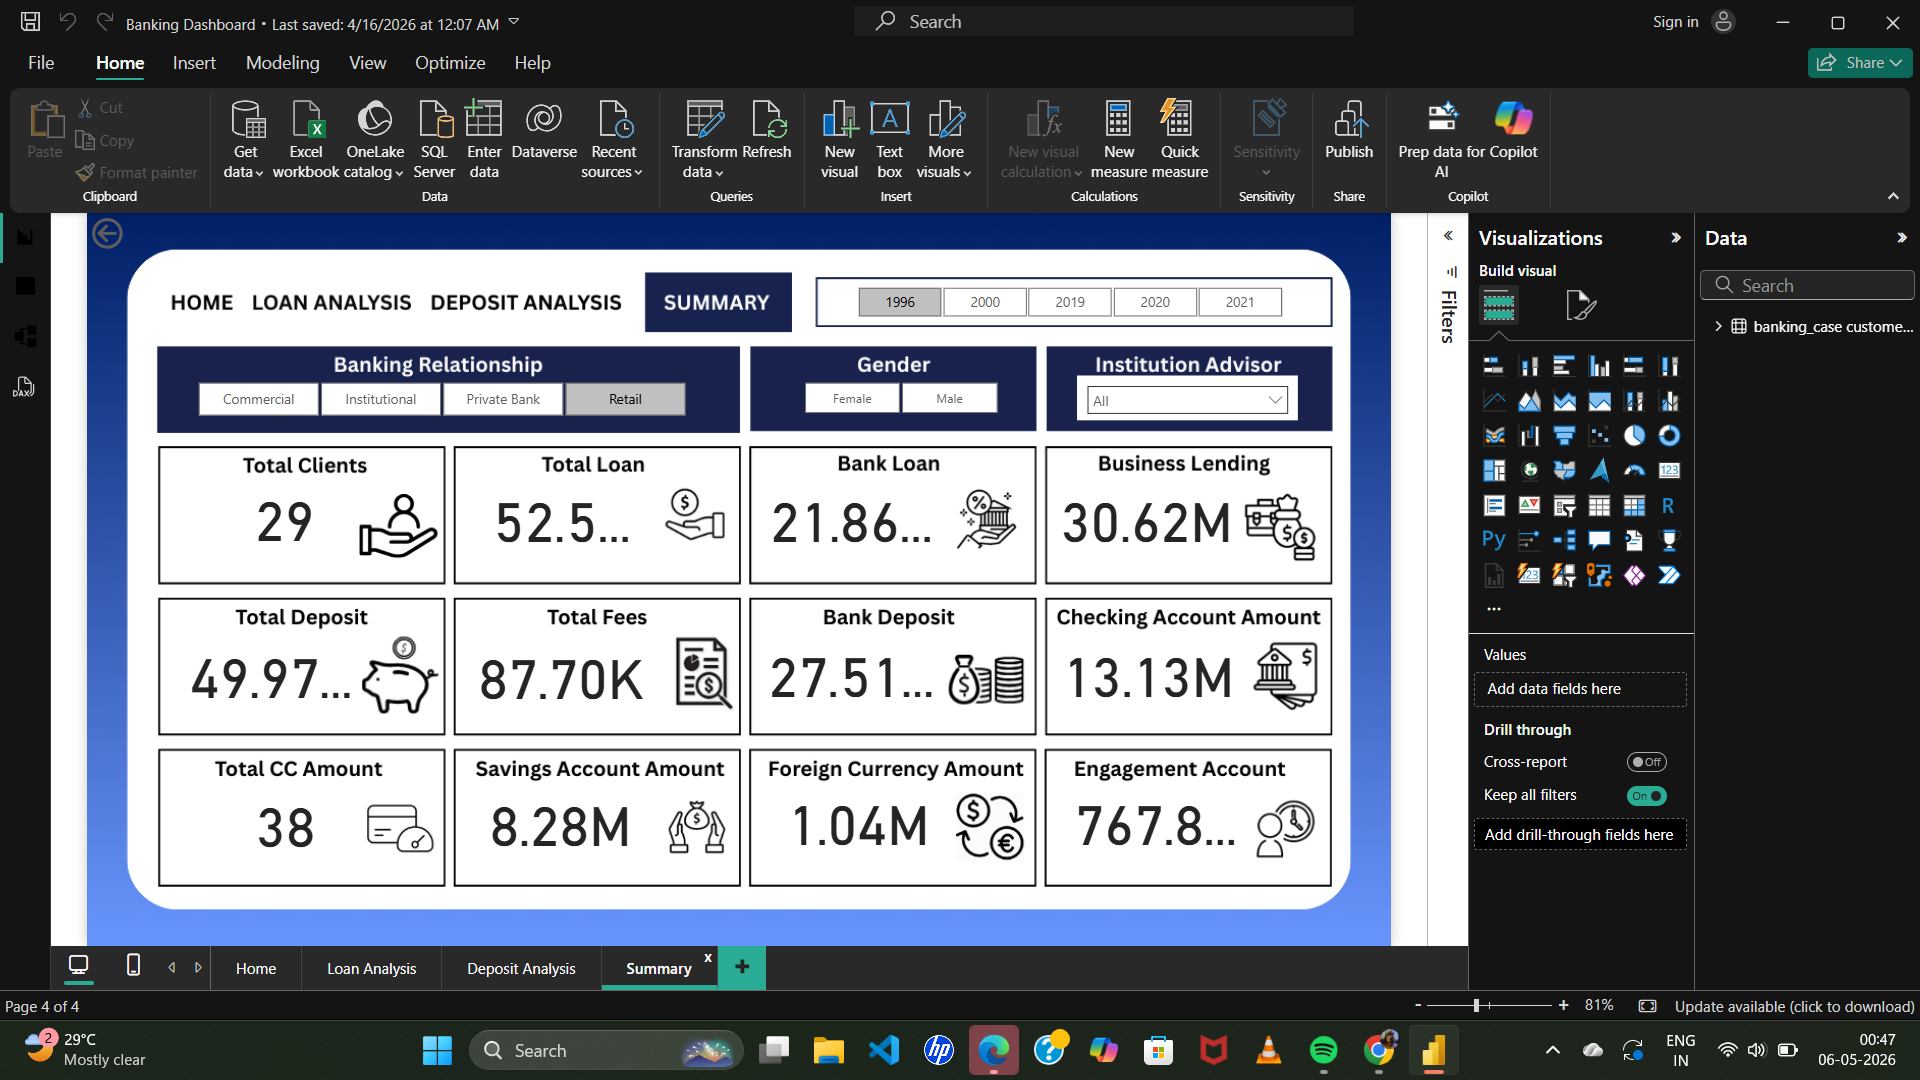

This screenshot's page, from the dashboard's own definition file:
{"tool":"powerbi","page":{"name":"Summary","canvas":[1280,720],"ordinal":3},"visuals":[{"type":"actionButton","box":[60,58.2,100,59],"z":0},{"type":"actionButton","box":[160,58.2,161.5,59],"z":1000},{"type":"actionButton","box":[330,58.3,201.7,58.3],"z":2000},{"type":"slicer","fields":{"Values":["banking_case customers.Year of Joining"]},"box":[731.1,66.7,465.6,42.2],"z":3000},{"type":"card","fields":{"Values":["banking_case customers.Total Deposit"]},"box":[95.7,431.4,170,58.6],"z":4000},{"type":"card","fields":{"Values":["banking_case customers.Total loan"]},"box":[378.6,278.6,172.9,58.6],"z":5000},{"type":"card","fields":{"Values":["Sum(banking_case customers.Credit Card Balance)"]},"box":[378.6,432.9,172.9,57.1],"z":6000},{"type":"card","fields":{"Values":["Sum(banking_case customers.Saving Accounts)"]},"box":[359,571,211,72],"z":7000},{"type":"card","fields":{"Values":["Sum(banking_case customers.Amount of Credit Cards)"]},"box":[92.9,578.6,204.3,57.1],"z":8000},{"type":"card","fields":{"Values":["Sum(banking_case customers.Bank Loans)"]},"box":[664.3,280,172.9,57.1],"z":9000},{"type":"card","fields":{"Values":["Sum(banking_case customers.Bank Deposits)"]},"box":[664.3,431.4,172.9,57.1],"z":10000},{"type":"card","fields":{"Values":["Sum(banking_case customers.Business Lending)"]},"box":[950,280,181.4,57.1],"z":11000},{"type":"card","fields":{"Values":["Sum(banking_case customers.Checking Accounts)"]},"box":[935.7,431.4,211.4,57.1],"z":12000},{"type":"card","fields":{"Values":["Sum(banking_case customers.Foreign Currency Account)"]},"box":[664.3,577.1,187.1,57.1],"z":13000},{"type":"card","fields":{"Values":["Sum(banking_case customers.Superannuation Savings)"]},"box":[950,577.1,198.6,57.1],"z":14000},{"type":"card","fields":{"Values":["CountNonNull(banking_case customers.ï»¿Client ID)"]},"box":[127.1,278.6,132.9,57.1],"z":15000},{"type":"slicer","fields":{"Values":["banking_case customers.BRId"]},"box":[83,159,528,46],"z":16000},{"type":"slicer","fields":{"Values":["banking_case customers.GenderId"]},"box":[678,160,239,44],"z":17000},{"type":"slicer","fields":{"Values":["banking_case customers.IAId"]},"box":[971.2,160,217.1,44.1],"z":18000},{"type":"actionButton","box":[0,0,100,40],"z":19000}]}

Visuals, with their boxes on the page's 1280x720 design canvas (x1, y1, x2, y2). These are canvas units, not pixel positions in the 1920x1080 screenshot, which may show the page scaled, cropped or inside an application window:
actionButton: (60,58,160,117)
actionButton: (160,58,322,117)
actionButton: (330,58,532,117)
slicer - banking_case customers.Year of Joining: (731,67,1197,109)
card - banking_case customers.Total Deposit: (96,431,266,490)
card - banking_case customers.Total loan: (379,279,552,337)
card - Sum(banking_case customers.Credit Card Balance): (379,433,552,490)
card - Sum(banking_case customers.Saving Accounts): (359,571,570,643)
card - Sum(banking_case customers.Amount of Credit Cards): (93,579,297,636)
card - Sum(banking_case customers.Bank Loans): (664,280,837,337)
card - Sum(banking_case customers.Bank Deposits): (664,431,837,488)
card - Sum(banking_case customers.Business Lending): (950,280,1131,337)
card - Sum(banking_case customers.Checking Accounts): (936,431,1147,488)
card - Sum(banking_case customers.Foreign Currency Account): (664,577,851,634)
card - Sum(banking_case customers.Superannuation Savings): (950,577,1149,634)
card - CountNonNull(banking_case customers.ï»¿Client ID): (127,279,260,336)
slicer - banking_case customers.BRId: (83,159,611,205)
slicer - banking_case customers.GenderId: (678,160,917,204)
slicer - banking_case customers.IAId: (971,160,1188,204)
actionButton: (0,0,100,40)
